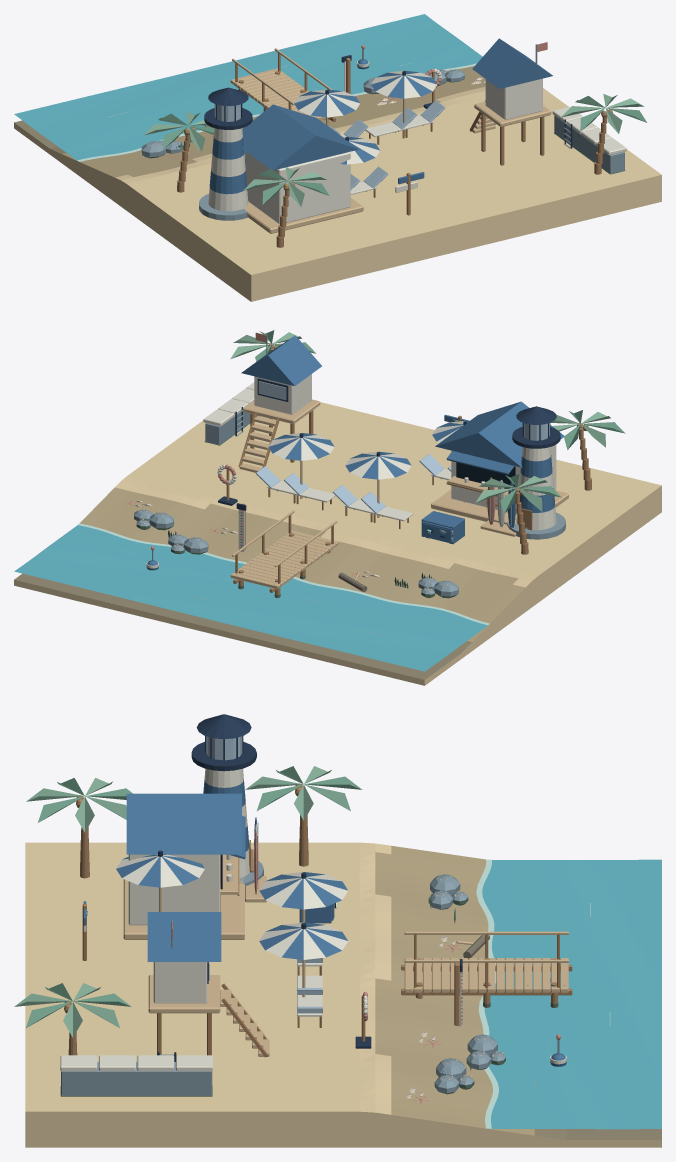
The model's file is beach_low_tide.glb.
3 renders of one model, top to bottom at view 1: azimuth 30°, elevation 25°; view 2: azimuth 150°, elevation 25°; view 3: azimuth 270°, elevation 25°, orthographic. The views are drawn at different scales.
Parts seen in each view (by area): view 1: tidal_sand_sand, tidal_water_surface, tidal_terrain_skirt, tidal_sand_wet_sand, beach_kiosk_gable_roof, beach_kiosk_body, lighthouse_tower_band (×4), lifeguard_tower_gable_roof, lifeguard_tower_cabin, beach_kiosk_deck, seawall_wall, lifeguard_tower_raised_deck (+3 smaller); view 2: tidal_sand_sand, tidal_water_surface, tidal_sand_wet_sand, tidal_terrain_skirt, tidal_sand_seabed, beach_kiosk_gable_roof, lifeguard_tower_gable_roof, lifeguard_tower_cabin, beach_kiosk_deck, shore_foam, beach_kiosk_body, seawall_wall (+7 smaller); view 3: tidal_sand_sand, tidal_water_surface, tidal_sand_wet_sand, tidal_terrain_skirt, beach_kiosk_gable_roof, seawall_wall, lifeguard_tower_gable_roof, beach_kiosk_body, seawall_capstone (×4), lifeguard_tower_cabin, beach_kiosk_deck, tidal_sand_seabed (+7 smaller).
Boxes of the visible parts, x1,y1,x2,y2 form: tidal_sand_sand: [115, 87, 661, 274]; tidal_water_surface: [14, 14, 482, 160]; tidal_terrain_skirt: [14, 122, 661, 301]; tidal_sand_wet_sand: [62, 66, 485, 177]; beach_kiosk_gable_roof: [242, 104, 359, 170]; beach_kiosk_body: [245, 151, 350, 224]; lighthouse_tower_band (×4): [208, 136, 248, 211]; lifeguard_tower_gable_roof: [472, 38, 552, 88]; lifeguard_tower_cabin: [485, 78, 542, 119]; beach_kiosk_deck: [243, 198, 363, 233]; seawall_wall: [554, 115, 624, 173]; lifeguard_tower_raised_deck: [474, 101, 551, 126]; tidal_sand_sand: [115, 402, 661, 587]; tidal_water_surface: [14, 525, 488, 671]; tidal_sand_wet_sand: [80, 487, 525, 641]; tidal_terrain_skirt: [14, 485, 661, 685]; tidal_sand_seabed: [14, 573, 471, 679]; beach_kiosk_gable_roof: [435, 401, 564, 467]; lifeguard_tower_gable_roof: [241, 335, 321, 385]; lifeguard_tower_cabin: [254, 374, 311, 414]; beach_kiosk_deck: [431, 489, 568, 524]; shore_foam: [78, 523, 489, 625]; beach_kiosk_body: [451, 444, 556, 514]; seawall_wall: [205, 411, 258, 444]; tidal_sand_sand: [25, 842, 391, 1114]; tidal_water_surface: [482, 859, 661, 1129]; tidal_sand_wet_sand: [375, 845, 534, 1135]; tidal_terrain_skirt: [25, 1111, 661, 1147]; beach_kiosk_gable_roof: [126, 793, 241, 854]; seawall_wall: [61, 1062, 212, 1095]; lifeguard_tower_gable_roof: [147, 912, 221, 961]; beach_kiosk_body: [128, 854, 220, 925]; seawall_capstone (×4): [60, 1055, 212, 1071]; lifeguard_tower_cabin: [153, 962, 207, 1003]; beach_kiosk_deck: [123, 877, 244, 939]; tidal_sand_seabed: [534, 1129, 661, 1139].
Size of the model in its own units: 16.02 by 5.54 by 16.28.
